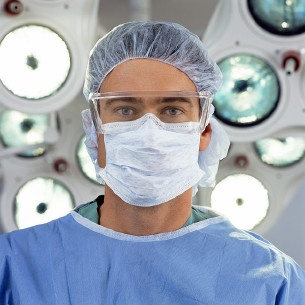Mask: (85, 84, 209, 208)
